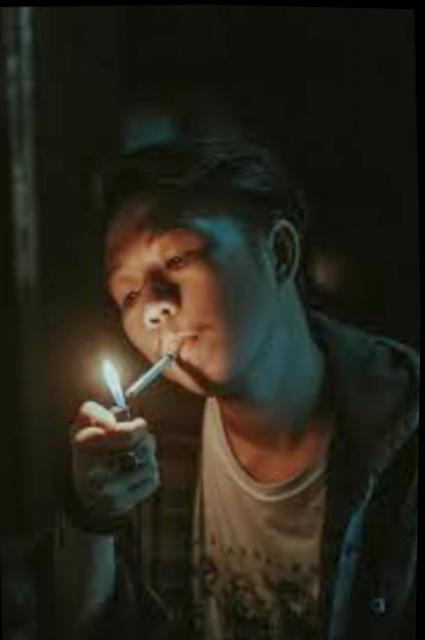fire: (93, 350, 140, 406)
